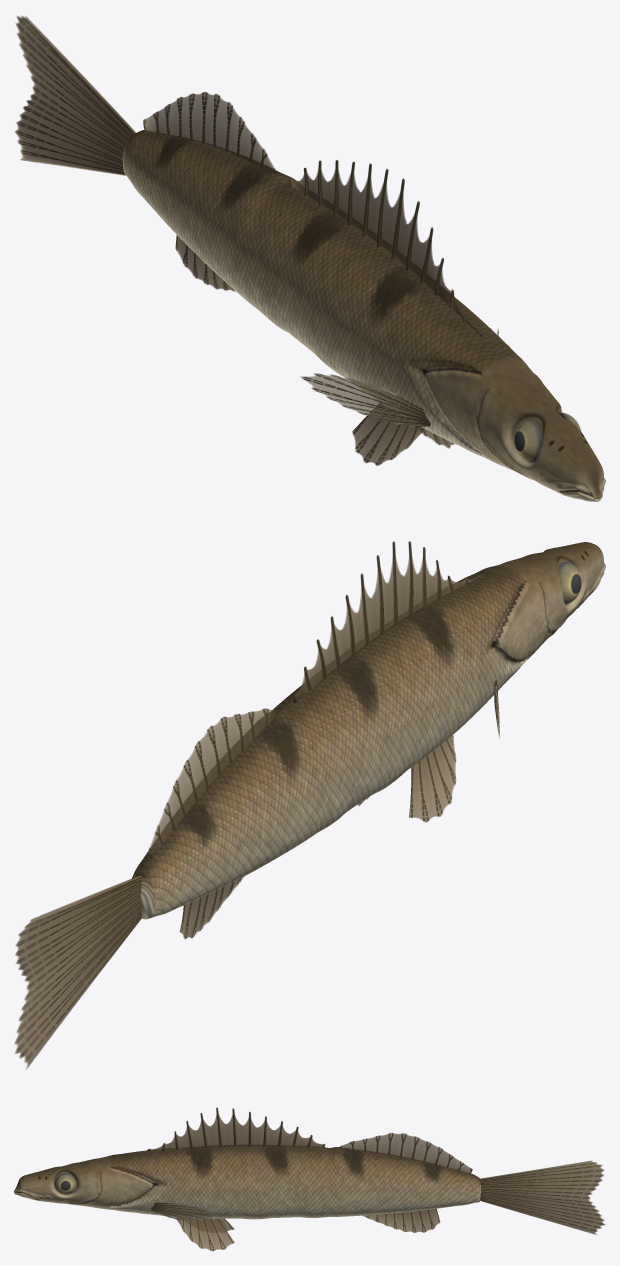
File: czop.glb
3 renders of one model, top to bottom at view 1: azimuth 30°, elevation 25°; view 2: azimuth 150°, elevation 25°; view 3: azimuth 270°, elevation 25°, orthographic. The views are drawn at different scales.
Parts seen in each view (by area): view 1: Body, FinCaudal, FinDorsal1, FinDorsal2, FinPectoral, FinPelvic, FinAnal, EyeLeft, CorneaLeft; view 2: Body, FinCaudal, FinDorsal1, FinDorsal2, FinPelvic, FinAnal, EyeLeft; view 3: Body, FinCaudal, FinDorsal1, FinDorsal2, FinPelvic, FinAnal, FinPectoral, EyeRight, CorneaRight.
Boxes of the visible parts, x1,y1,x2,y2 form: Body: [122, 130, 605, 501]; FinCaudal: [14, 15, 136, 175]; FinDorsal1: [289, 160, 482, 336]; FinDorsal2: [143, 91, 276, 173]; FinPectoral: [300, 328, 498, 427]; FinPelvic: [352, 403, 454, 465]; FinAnal: [175, 235, 235, 291]; EyeLeft: [514, 419, 542, 462]; CorneaLeft: [514, 419, 541, 462]; Body: [132, 542, 605, 919]; FinCaudal: [14, 875, 141, 1069]; FinDorsal1: [293, 541, 482, 702]; FinDorsal2: [148, 708, 279, 858]; FinPelvic: [358, 735, 456, 822]; FinAnal: [180, 876, 244, 939]; EyeLeft: [559, 561, 581, 604]; Body: [14, 1145, 480, 1219]; FinCaudal: [480, 1160, 605, 1234]; FinDorsal1: [132, 1107, 325, 1154]; FinDorsal2: [340, 1133, 472, 1173]; FinPelvic: [177, 1217, 234, 1251]; FinAnal: [362, 1208, 440, 1232]; FinPectoral: [151, 1202, 214, 1220]; EyeRight: [54, 1173, 75, 1194]; CorneaRight: [55, 1173, 75, 1194].
Bounding box in the file's own units: 0.1963 × 0.2647 × 1.
9 materials, 8 textured.
